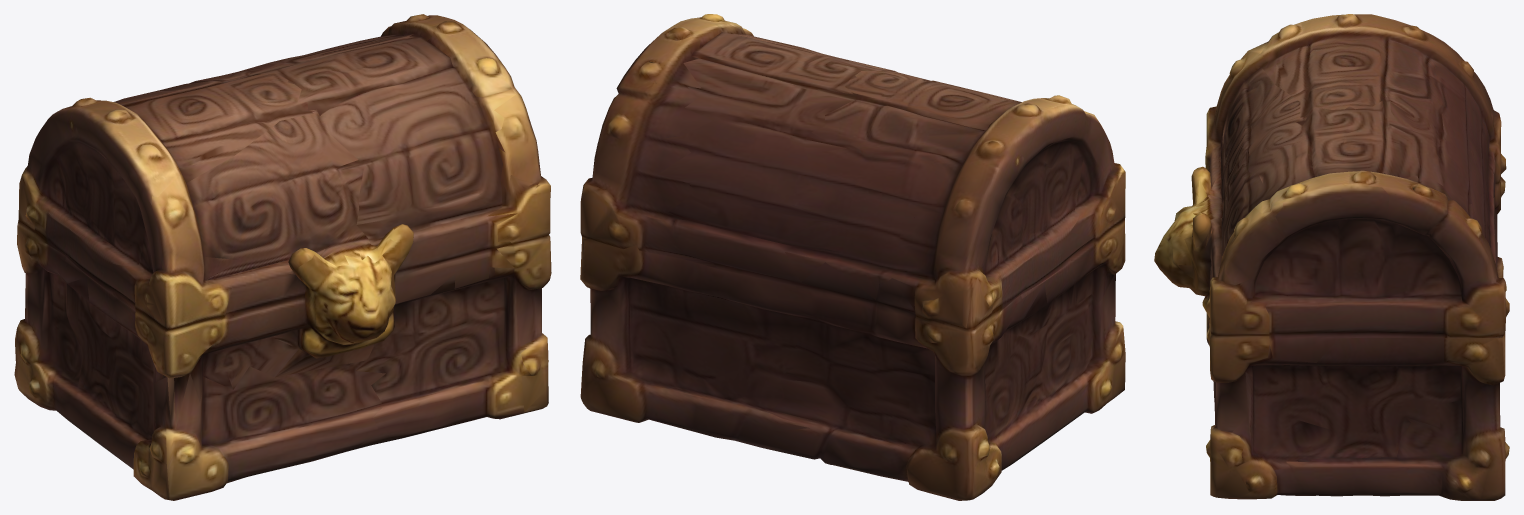
Rendered from r01_bau.glb.
The picture shows the model from 3 angles, left to right: view 1: azimuth 30°, elevation 25°; view 2: azimuth 150°, elevation 25°; view 3: azimuth 270°, elevation 25°; orthographic projection. The views are drawn at different scales.
Visible parts, largest first — view 1: r01_bau; view 2: r01_bau; view 3: r01_bau.
Boxes of the visible parts, x1,y1,x2,y2 form: r01_bau: [14, 14, 551, 500]; r01_bau: [580, 14, 1125, 500]; r01_bau: [1154, 14, 1509, 500].
Size of the model in its own units: 0.8684 by 0.6914 by 0.6999.
1 material, 1 textured.
